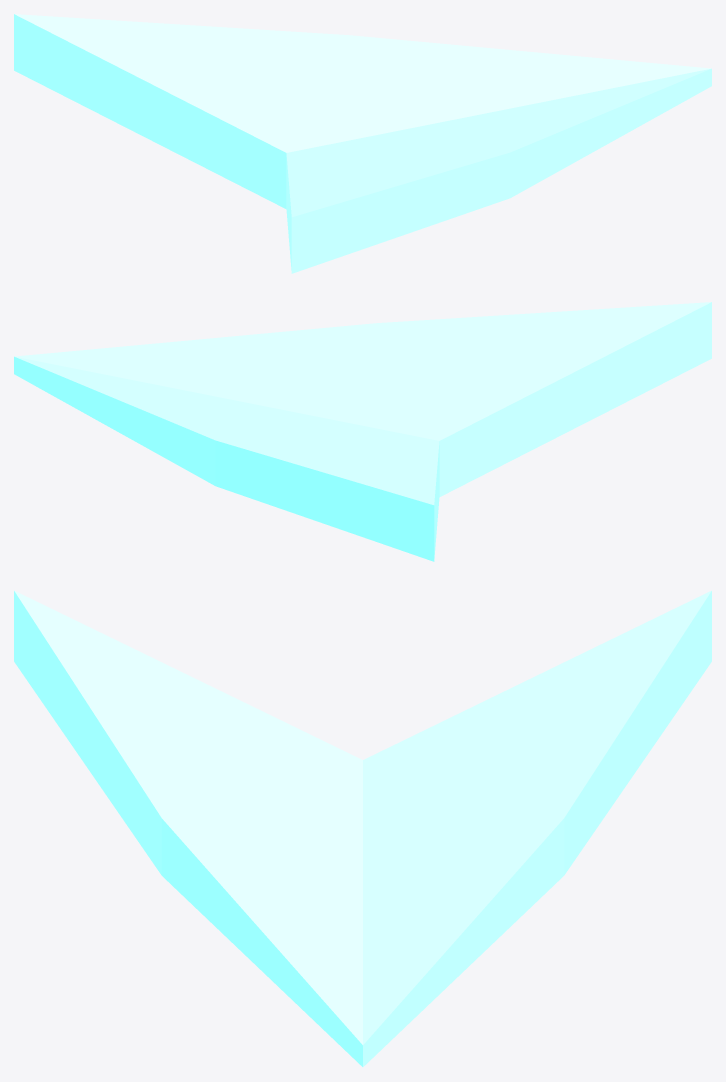
Rendered from SM_Dash.fbx.
3 views of the same model, one above another, from view 1: azimuth 30°, elevation 25°; view 2: azimuth 150°, elevation 25°; view 3: azimuth 270°, elevation 25° (orthographic). The views are drawn at different scales.
Parts seen in each view (by area): view 1: SM_Dash; view 2: SM_Dash; view 3: SM_Dash.
Part boxes in pixels (x1,y1,x2,y2): SM_Dash: (14,14,711,273); SM_Dash: (14,302,711,561); SM_Dash: (14,590,711,1066).
Size of the model in its own units: 4.03 by 0.8699 by 3.47.
